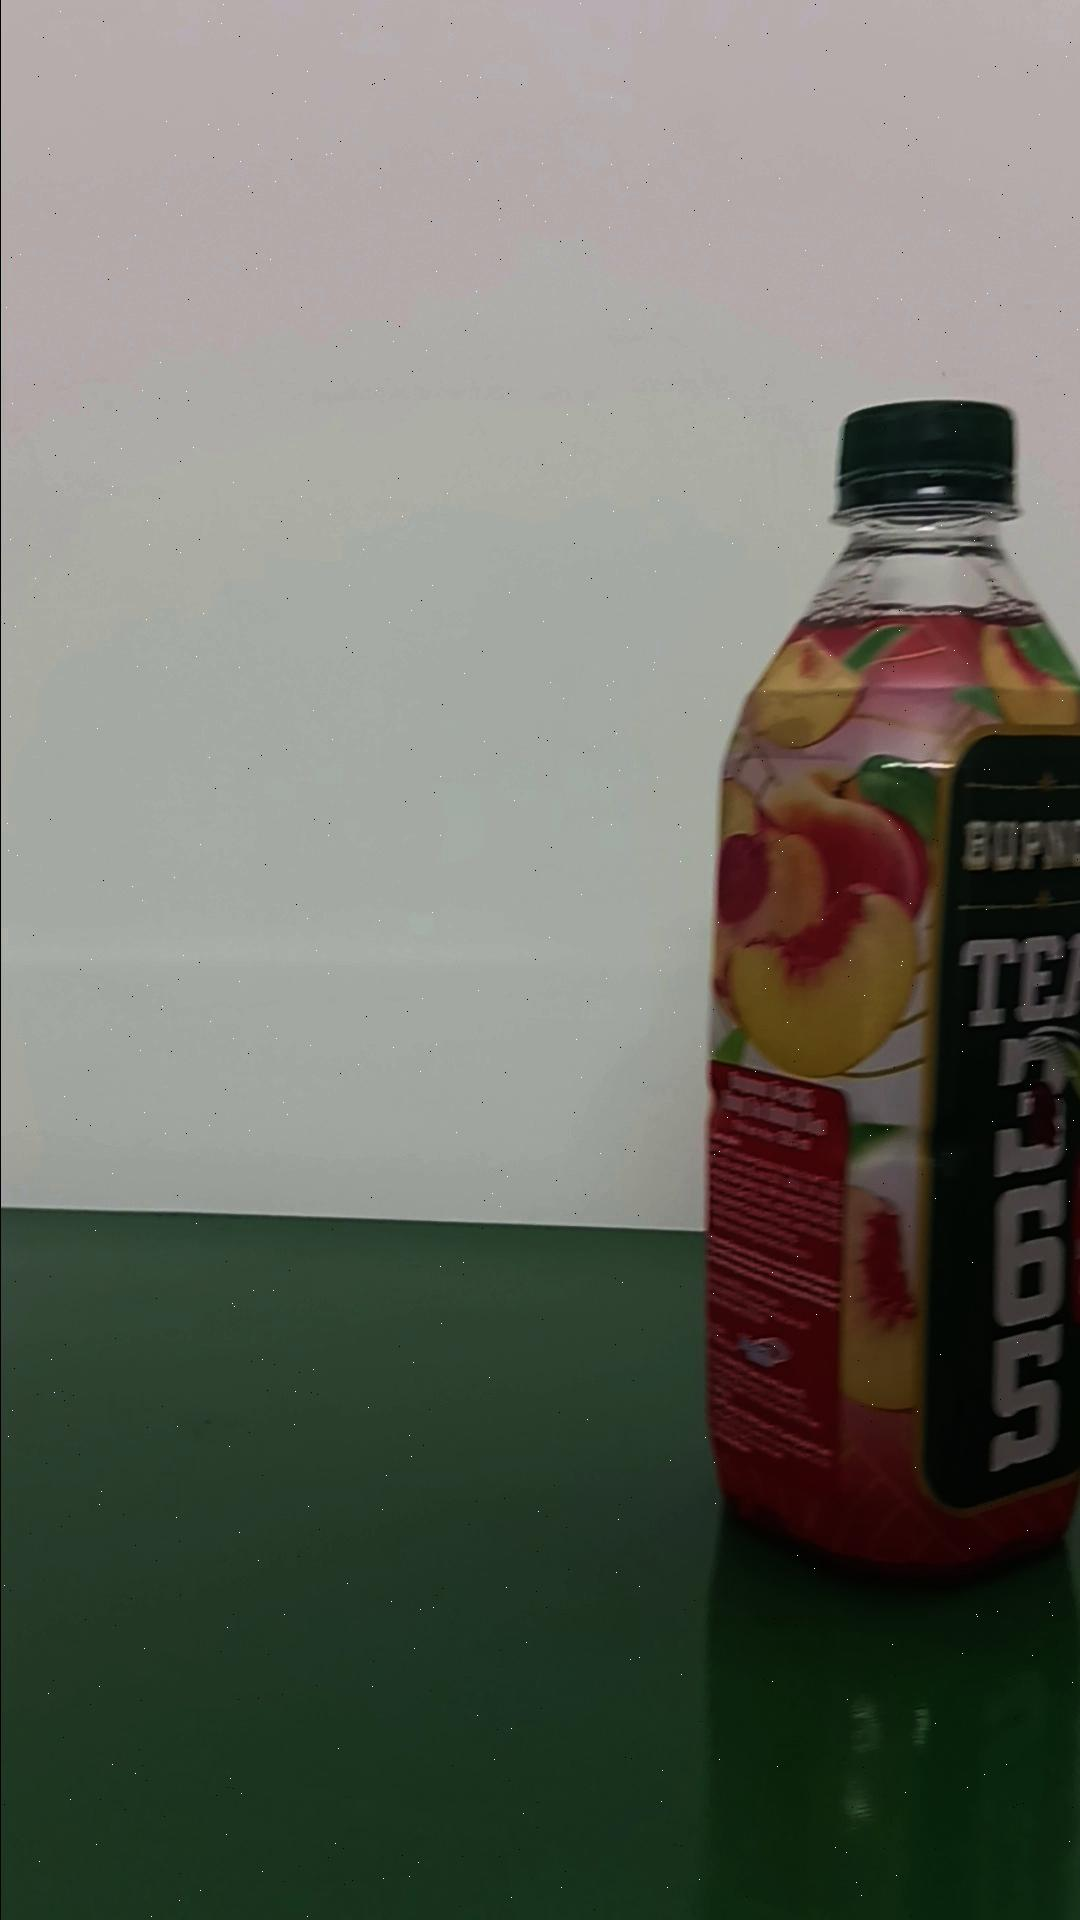loi rach va lap chai: (707, 390, 1080, 1592)
